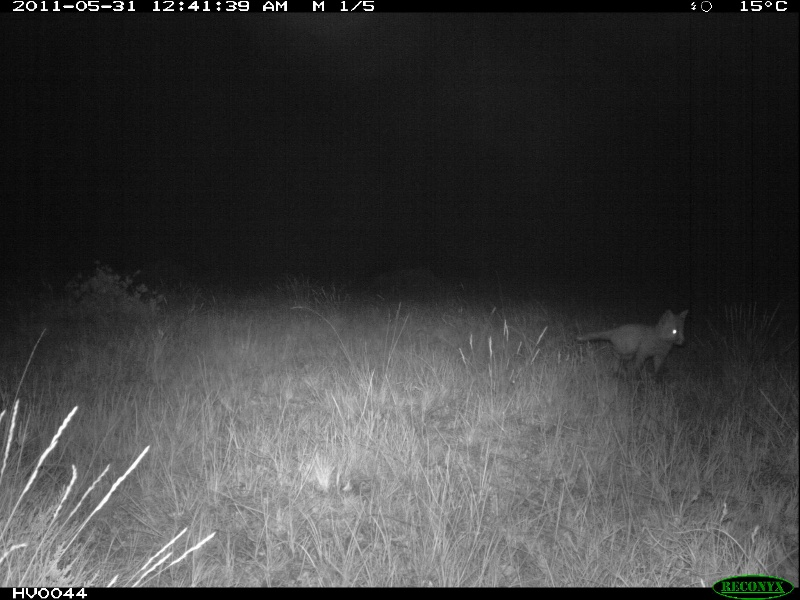fox: (573, 304, 693, 377)
